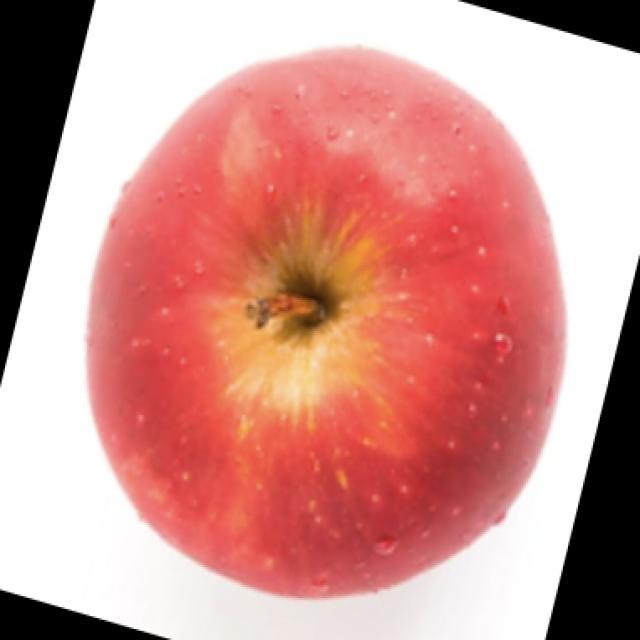Fresh Apple: (83, 43, 575, 602)
